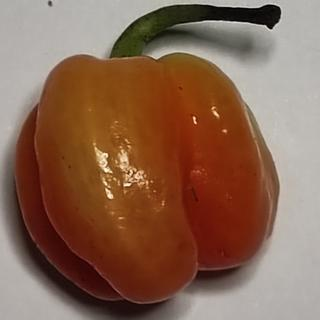Grade-B: (9, 48, 283, 308)
